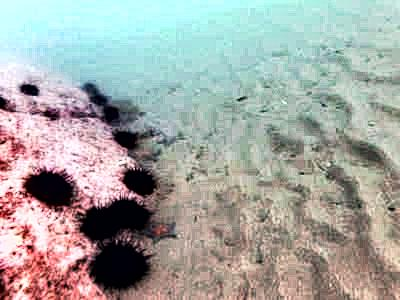urchin: (92, 236, 146, 288), (23, 167, 74, 209), (79, 205, 116, 239), (110, 197, 148, 230), (123, 164, 156, 197), (16, 82, 37, 95), (104, 104, 118, 123), (117, 131, 136, 145)
